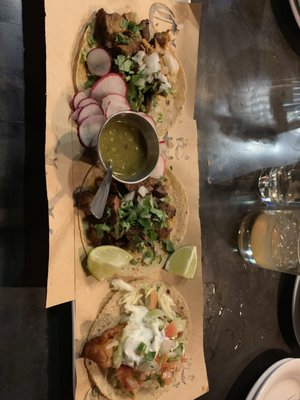curry: (14, 0, 300, 400)
sandwich: (81, 276, 201, 400)
